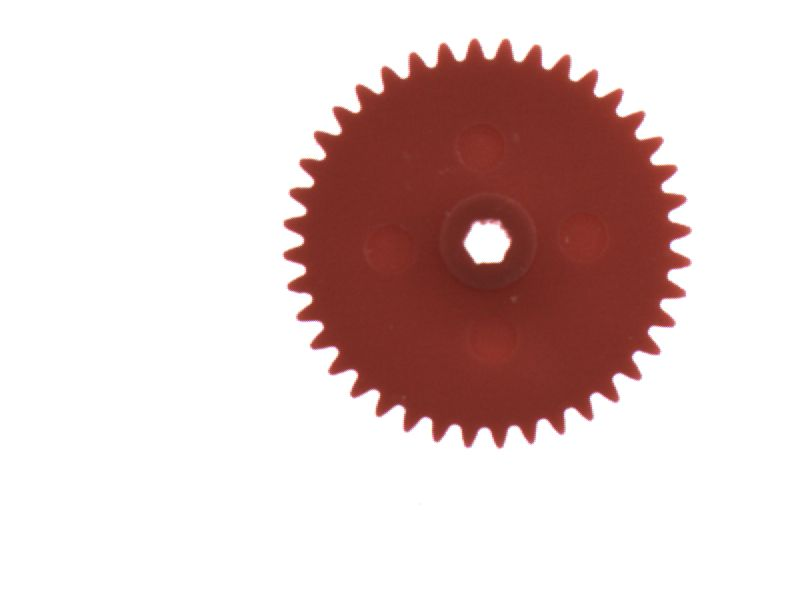good_product: (273, 27, 700, 458)
